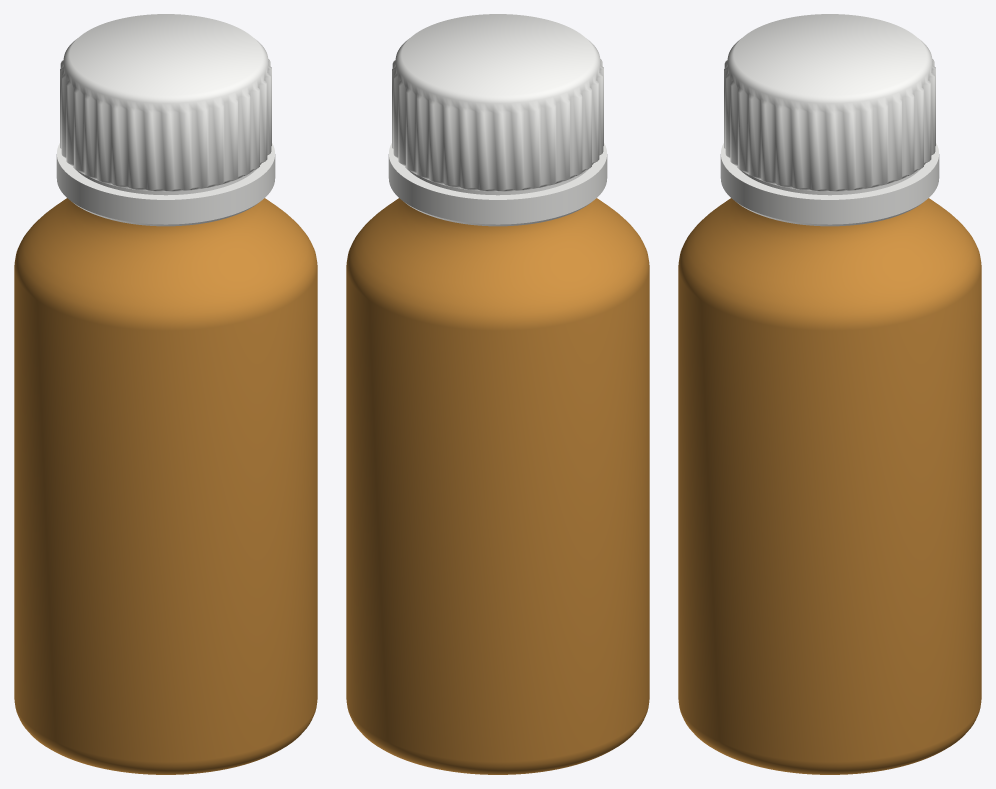
Rendered from amber_bottle_060ml.glb.
3 views of the same model, side by side, from view 1: azimuth 30°, elevation 25°; view 2: azimuth 150°, elevation 25°; view 3: azimuth 270°, elevation 25° (orthographic).
Parts seen in each view (by area): view 1: Bottle_060ml, Cap_060ml_PP25; view 2: Bottle_060ml, Cap_060ml_PP25; view 3: Bottle_060ml, Cap_060ml_PP25.
Boxes of the visible parts, x1=… form: Bottle_060ml: x1=14, y1=198, x2=317, y2=774; Cap_060ml_PP25: x1=56, y1=14, x2=275, y2=226; Bottle_060ml: x1=346, y1=198, x2=649, y2=774; Cap_060ml_PP25: x1=388, y1=14, x2=607, y2=226; Bottle_060ml: x1=678, y1=198, x2=981, y2=774; Cap_060ml_PP25: x1=720, y1=14, x2=939, y2=226.
Size of the model in its own units: 0.04 by 0.0966 by 0.04.
